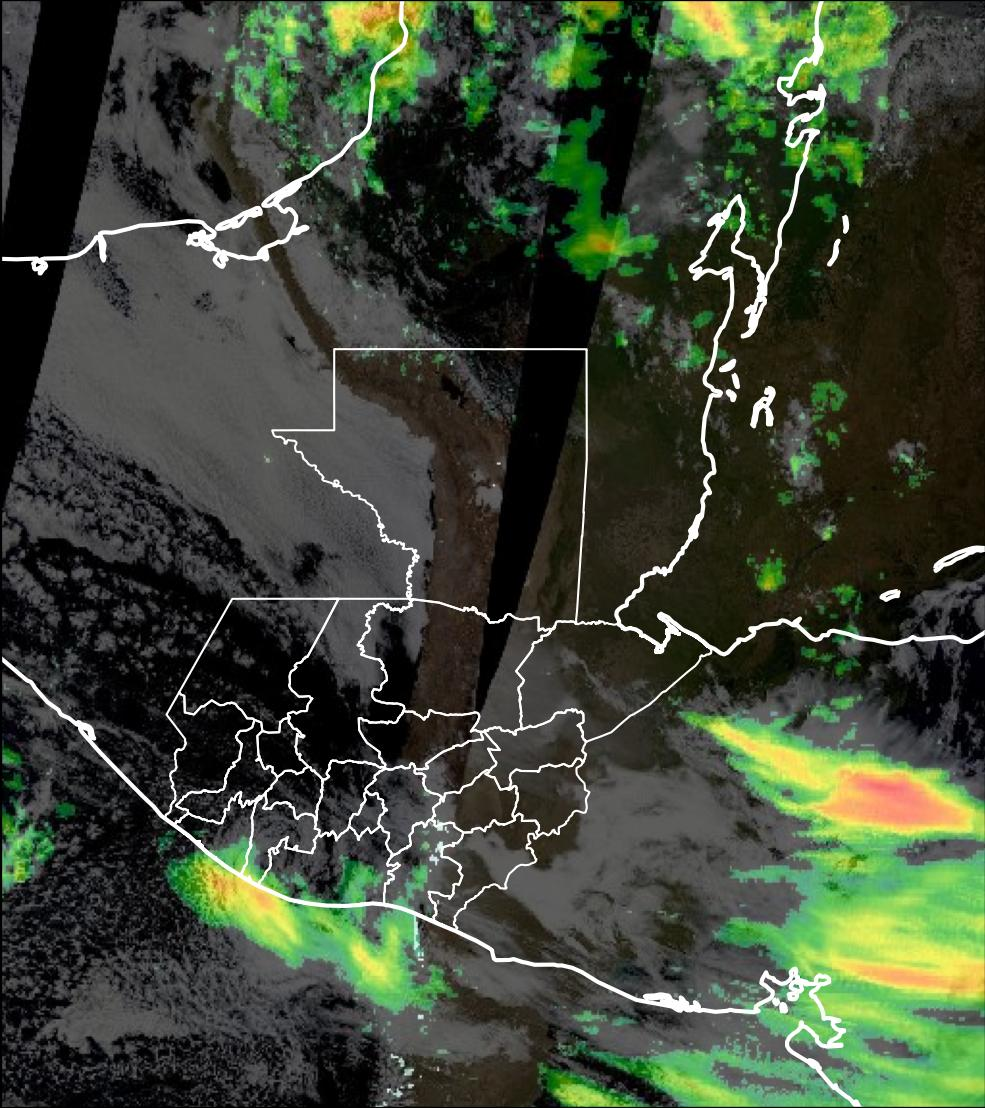precipitacion: (803, 769, 973, 842), (824, 945, 982, 1004)
